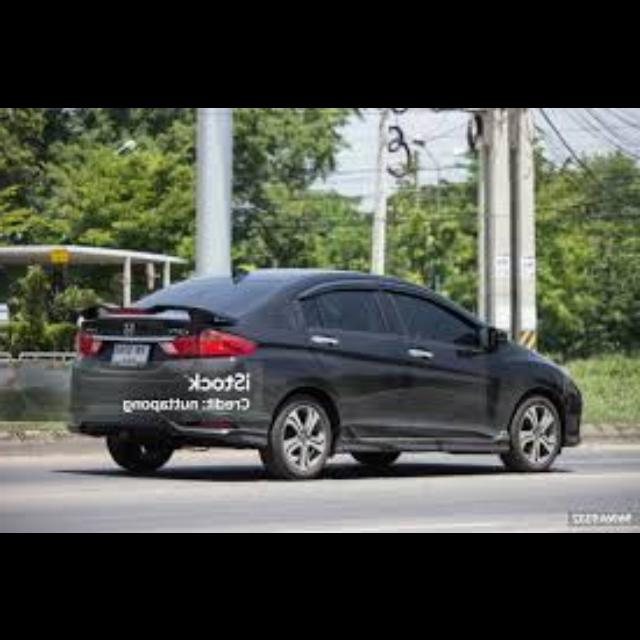vehicles: (59, 258, 592, 484)
